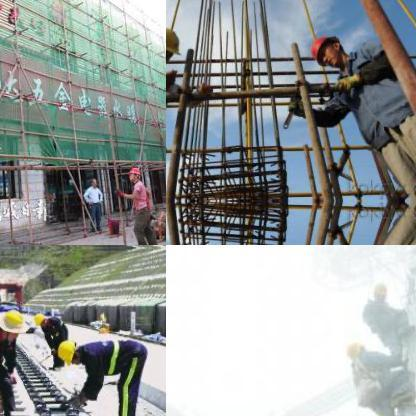Helmet: (308, 32, 346, 66), (54, 336, 80, 364), (166, 26, 181, 71), (0, 307, 27, 332), (343, 338, 369, 360), (30, 308, 50, 330), (369, 280, 387, 304), (124, 164, 142, 182), (161, 203, 165, 215)
